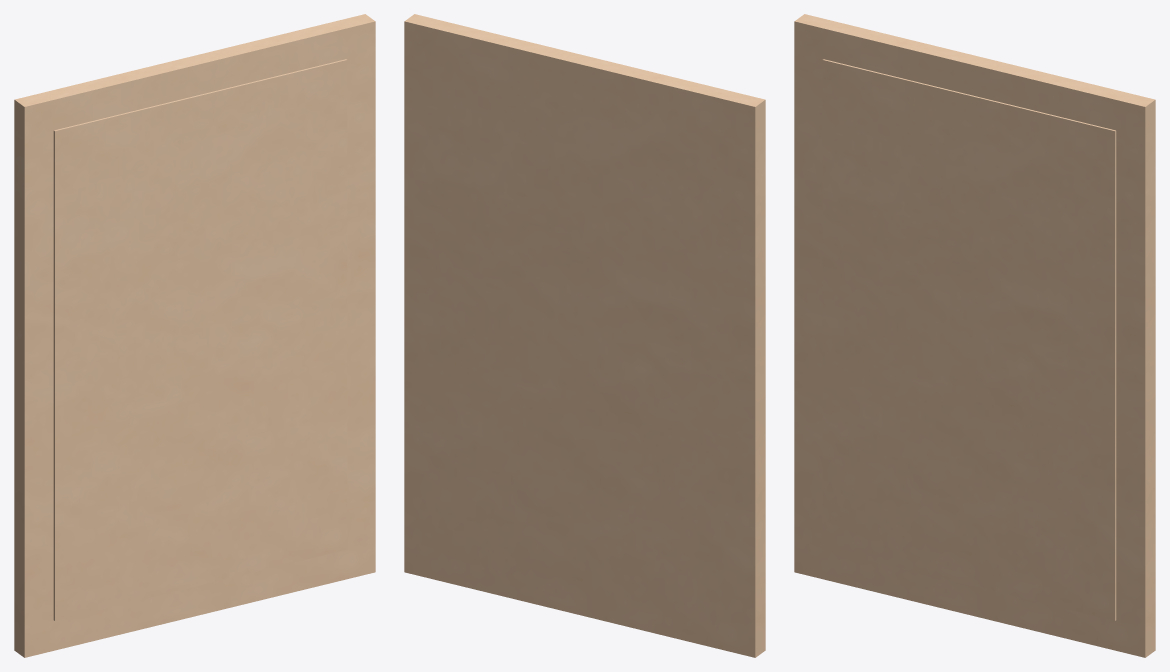
The model's file is Mirror.fbx.
The picture shows the model from 3 angles, left to right: view 1: azimuth 30°, elevation 25°; view 2: azimuth 150°, elevation 25°; view 3: azimuth 330°, elevation 25°; orthographic projection.
Parts seen in each view (by area): view 1: Mirror; view 2: Mirror; view 3: Mirror.
Part boxes in pixels (x1=…): Mirror: x1=14, y1=14, x2=375, y2=657; Mirror: x1=404, y1=14, x2=765, y2=657; Mirror: x1=794, y1=14, x2=1155, y2=657.
Bounding box in the file's own units: 0.6 × 0.9 × 0.033.
Materials: 1 (1 with a texture image).
